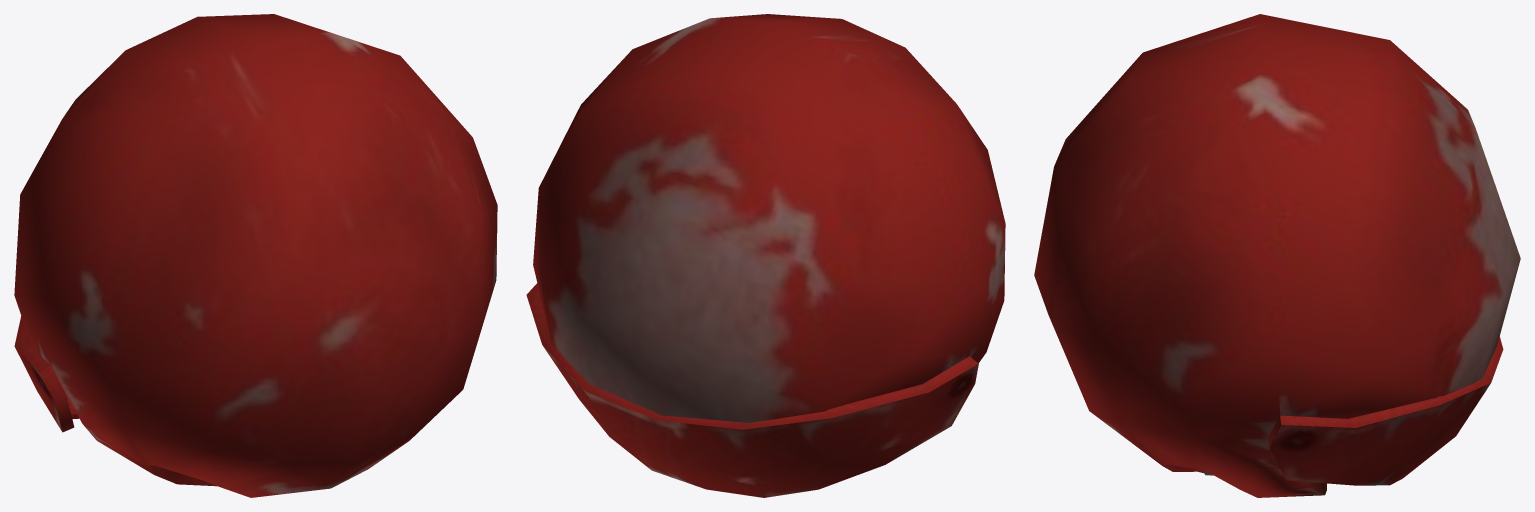
The model's file is murphy_07.obj.
3 views of the same model, side by side, from view 1: azimuth 30°, elevation 25°; view 2: azimuth 150°, elevation 25°; view 3: azimuth 270°, elevation 25° (orthographic). The views are drawn at different scales.
Parts seen in each view (by area): view 1: Object01, Object02; view 2: Object01, Object02; view 3: Object01, Object02.
Boxes of the visible parts, box(x1,y1,x2,y2) form: Object01: box(14, 14, 497, 497); Object02: box(14, 316, 79, 432); Object01: box(533, 14, 1005, 422); Object02: box(526, 283, 978, 497); Object01: box(1034, 14, 1520, 497); Object02: box(1268, 336, 1503, 485).
Size of the model in its own units: 20.08 by 19.62 by 19.83.
1 material, 1 textured.
